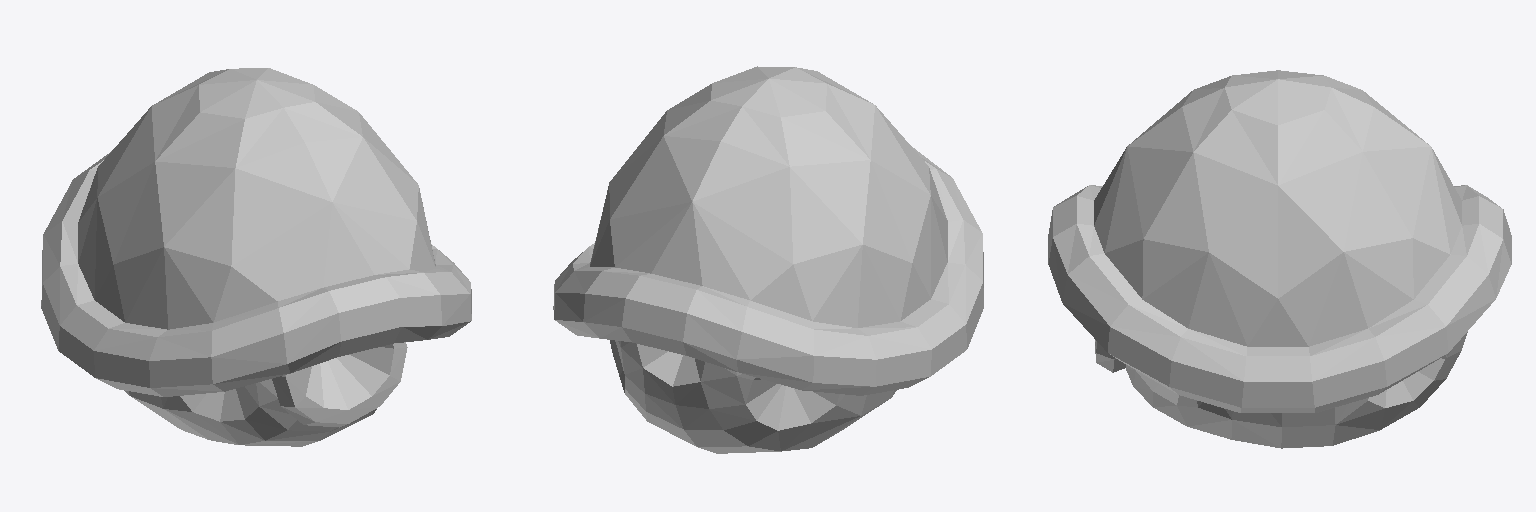
The model's file is ITEM_GREEN_SHELL.OBJ.
3 views of the same model, side by side, from view 1: azimuth 30°, elevation 25°; view 2: azimuth 150°, elevation 25°; view 3: azimuth 270°, elevation 25° (orthographic).
Visible parts, largest first — view 1: ItemKoura__m_ItemKoura_ItemKoura__m_ItemKoura.001; view 2: ItemKoura__m_ItemKoura_ItemKoura__m_ItemKoura.001; view 3: ItemKoura__m_ItemKoura_ItemKoura__m_ItemKoura.001.
Boxes of the visible parts, box(x1,y1,x2,y2) form: ItemKoura__m_ItemKoura_ItemKoura__m_ItemKoura.001: box(41, 68, 471, 446); ItemKoura__m_ItemKoura_ItemKoura__m_ItemKoura.001: box(553, 66, 983, 453); ItemKoura__m_ItemKoura_ItemKoura__m_ItemKoura.001: box(1048, 70, 1511, 448).
Size of the model in its own units: 1.11 by 1.04 by 1.24.